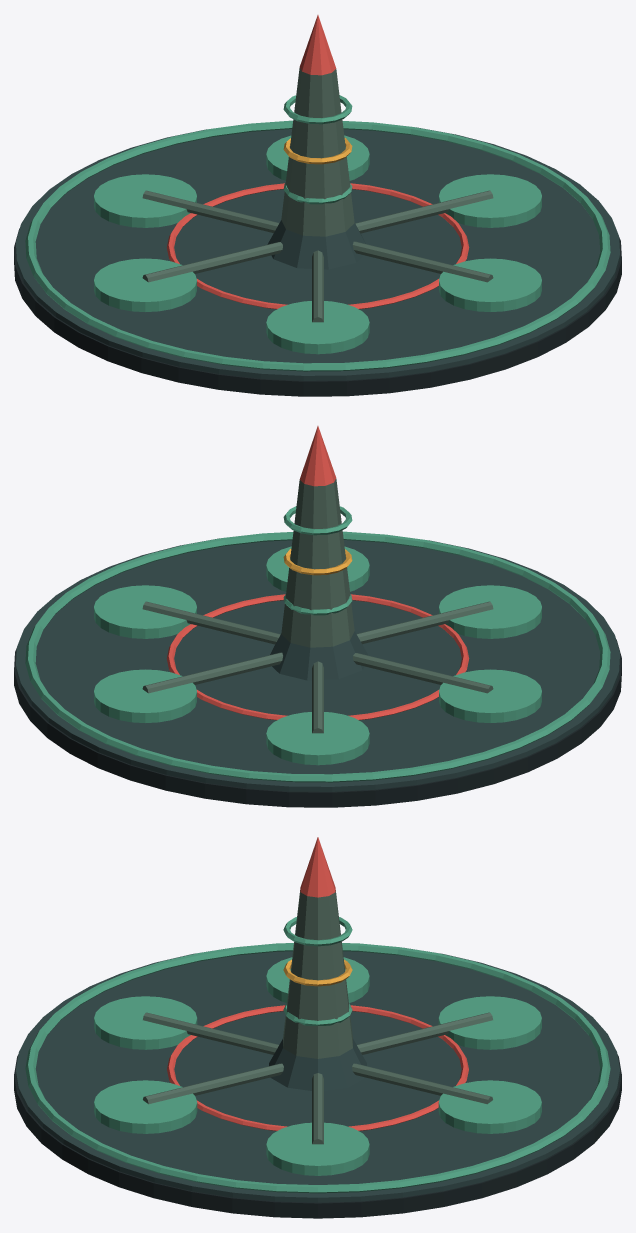
Rendered from ParkParkRobotHub.obj.
The picture shows the model from 3 angles, top to bottom: view 1: azimuth 30°, elevation 25°; view 2: azimuth 150°, elevation 25°; view 3: azimuth 270°, elevation 25°; orthographic projection.
Parts seen in each view (by area): view 1: ParkParkRobotHub; view 2: ParkParkRobotHub; view 3: ParkParkRobotHub.
Boxes of the visible parts, bbox=[...] form: ParkParkRobotHub: bbox=[14, 15, 621, 396]; ParkParkRobotHub: bbox=[14, 426, 621, 807]; ParkParkRobotHub: bbox=[14, 837, 621, 1218].
Size of the model in its own units: 16.5 by 7.6 by 16.5.
